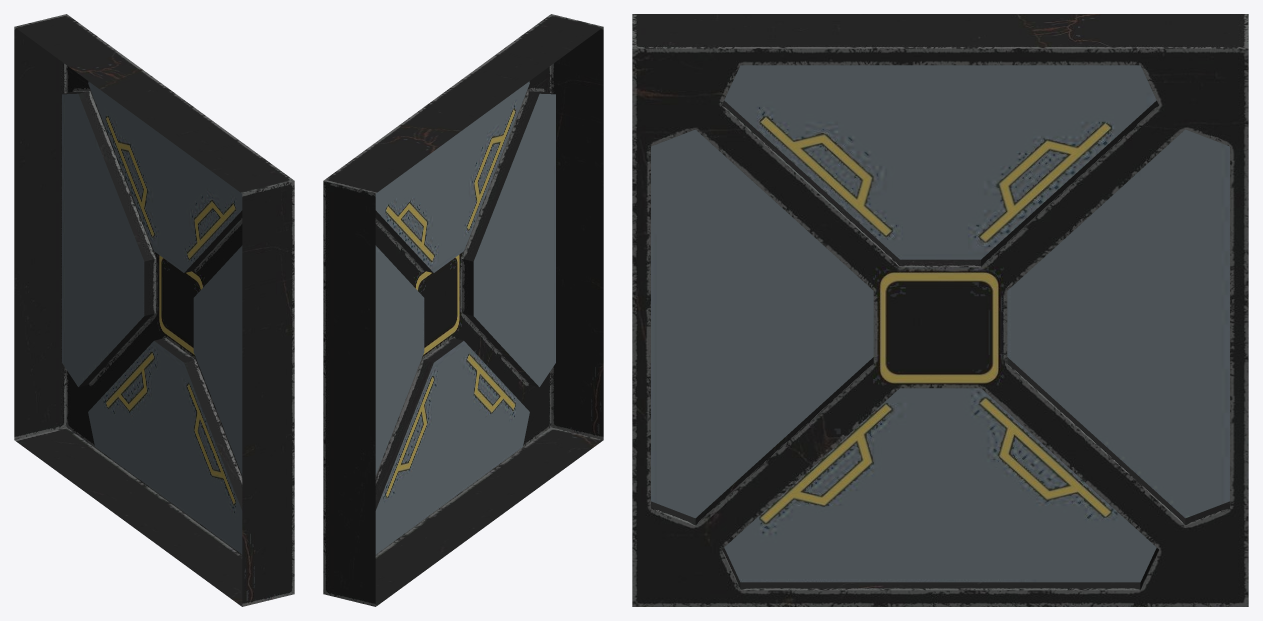
File: lab_hatch.glb
3 renders of one model, left to right at view 1: azimuth 30°, elevation 25°; view 2: azimuth 150°, elevation 25°; view 3: azimuth 270°, elevation 25°, orthographic. The views are drawn at different scales.
Visible parts, largest first — view 1: prop; view 2: prop; view 3: prop.
Boxes of the visible parts, box(x1,y1,x2,y2) form: prop: box(14, 14, 294, 606); prop: box(323, 14, 603, 606); prop: box(632, 14, 1248, 606).
Size of the model in its own units: 0.2664 by 2 by 2.
1 material, 1 textured.
